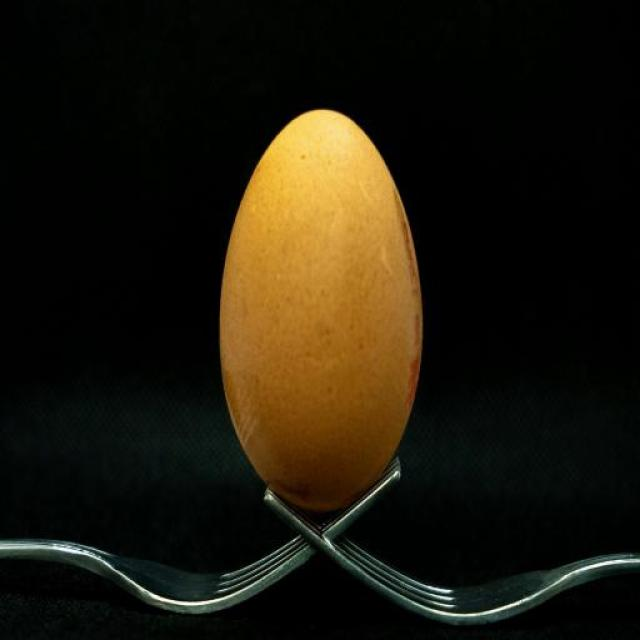telur: (220, 114, 418, 515)
